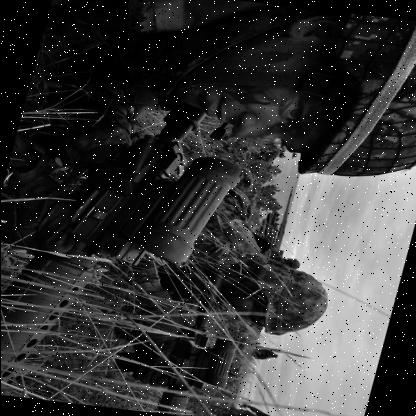rifle: (0, 89, 257, 410)
